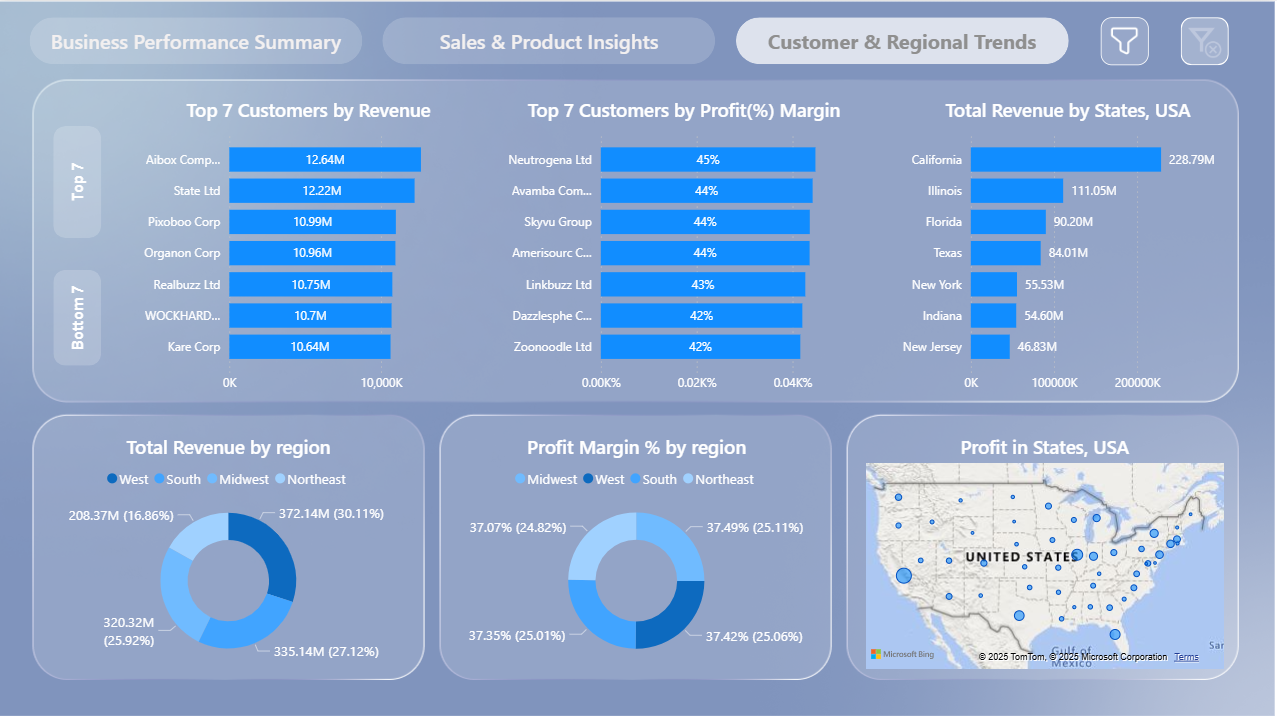

This screenshot's page, from the dashboard's own definition file:
{"tool":"powerbi","page":{"name":"Customer & Regional Trends","canvas":[1280,720],"ordinal":2},"visuals":[{"type":"pageNavigator","box":[32,16,1040,48],"z":0},{"type":"barChart","title":"Top 7 Customers by Revenue","fields":{"Category":["Customer Summary.customer_names"],"Y":["Sum(Customer Summary.Total Revenue)"]},"box":[128,96,368,304],"z":0,"group":"g1"},{"type":"barChart","title":"Total Revenue by States, USA","fields":{"Category":["EDA_MASTER_DATA.state_name"],"Y":["Query1.Total Revenue"]},"box":[896,96,352,304],"z":1000,"group":"g1"},{"type":"actionButton","box":[55.7,124.6,48,112],"z":1000},{"type":"barChart","title":"Top 7 Customers by Profit(%) Margin ","fields":{"Y":["Query1.Profit Margin %"],"Category":["EDA_MASTER_DATA.customer_names"]},"box":[496,96,384,304],"z":2000,"group":"g1"},{"type":"actionButton","box":[55.7,268.6,48,96],"z":3000},{"type":"group","id":"g1","title":"Top","box":[128,96,1120,304],"z":4000},{"type":"donutChart","fields":{"Y":["Query1.Total Revenue"],"Category":["EDA_MASTER_DATA.region"]},"box":[48,432,368,240],"z":5000},{"type":"donutChart","fields":{"Category":["EDA_MASTER_DATA.region"],"Y":["Query1.Profit Margin %"]},"box":[448,432,384,240],"z":6000},{"type":"map","title":"Profit in States, USA ","fields":{"Category":["EDA_MASTER_DATA.state_name"],"Size":["Sum(EDA_MASTER_DATA.profit)"]},"box":[864,432,368,240],"z":7000},{"type":"image","box":[1104,16,48,48],"z":8000},{"type":"actionButton","box":[1184,16,48,48],"z":10000}]}

Visuals, with their boxes in screenshot pixels (x1, y1, x2, y2), scaled from the page's 1280x720 canvas onto the 1277x716 screenshot:
pageNavigator: crop(32, 16, 1069, 64)
"Top 7 Customers by Revenue" barChart: crop(128, 95, 495, 398)
"Total Revenue by States, USA" barChart: crop(894, 95, 1245, 398)
actionButton: crop(56, 124, 103, 235)
"Top 7 Customers by Profit(%) Margin " barChart: crop(495, 95, 878, 398)
actionButton: crop(56, 267, 103, 363)
"Top" group: crop(128, 95, 1245, 398)
donutChart - Query1.Total Revenue x EDA_MASTER_DATA.region: crop(48, 430, 415, 668)
donutChart - EDA_MASTER_DATA.region x Query1.Profit Margin %: crop(447, 430, 830, 668)
"Profit in States, USA " map: crop(862, 430, 1229, 668)
image: crop(1101, 16, 1149, 64)
actionButton: crop(1181, 16, 1229, 64)
